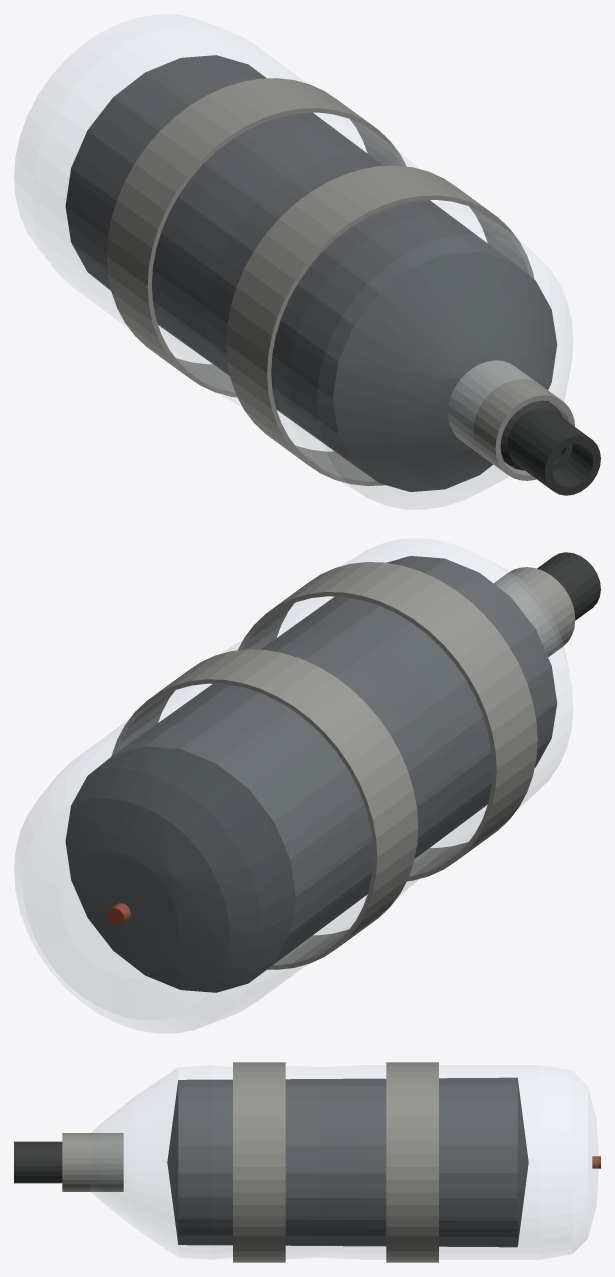
File: supressor_garrafa.glb
The picture shows the model from 3 angles, top to bottom: view 1: azimuth 30°, elevation 25°; view 2: azimuth 150°, elevation 25°; view 3: azimuth 270°, elevation 25°; orthographic projection. The views are drawn at different scales.
Parts seen in each view (by area): view 1: supressor_garrafa_pet_garrafa, supressor_garrafa_palha_aco, supressor_garrafa_fita_cinza, supressor_garrafa_aco_fosfatado; view 2: supressor_garrafa_pet_garrafa, supressor_garrafa_palha_aco, supressor_garrafa_fita_cinza, supressor_garrafa_aco_fosfatado; view 3: supressor_garrafa_pet_garrafa, supressor_garrafa_palha_aco, supressor_garrafa_fita_cinza, supressor_garrafa_aco_fosfatado.
Boxes of the visible parts, <box> form: supressor_garrafa_pet_garrafa: <box>14,15,572,508</box>; supressor_garrafa_palha_aco: <box>65,55,557,491</box>; supressor_garrafa_fita_cinza: <box>106,78,574,485</box>; supressor_garrafa_aco_fosfatado: <box>500,400,600,495</box>; supressor_garrafa_pet_garrafa: <box>14,539,572,1032</box>; supressor_garrafa_palha_aco: <box>65,556,557,992</box>; supressor_garrafa_fita_cinza: <box>111,562,575,969</box>; supressor_garrafa_aco_fosfatado: <box>537,552,600,620</box>; supressor_garrafa_pet_garrafa: <box>91,1065,597,1259</box>; supressor_garrafa_palha_aco: <box>167,1077,528,1247</box>; supressor_garrafa_fita_cinza: <box>62,1062,438,1262</box>; supressor_garrafa_aco_fosfatado: <box>14,1141,62,1183</box>.
Bounding box in the file's own units: 0.0916 × 0.0916 × 0.268.
